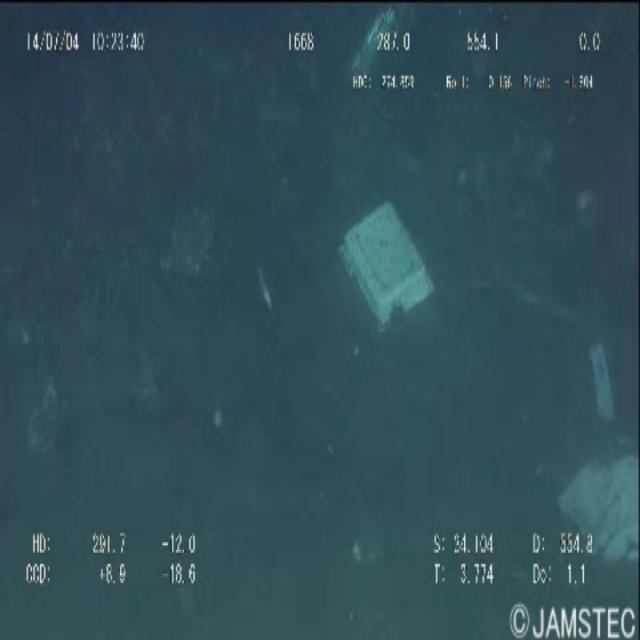Cutlery: (332, 198, 442, 329)
Glass: (342, 1, 413, 108)
Litter: (584, 332, 620, 438)
Plastic: (550, 454, 640, 562)
